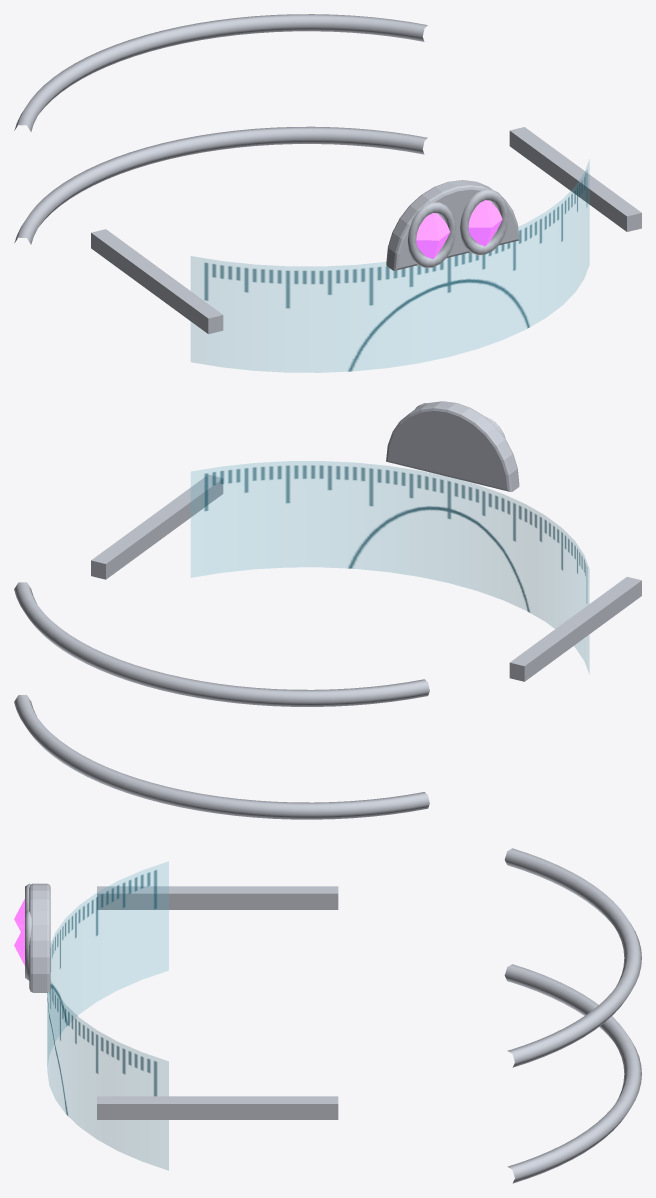
File: gl_eqsu2.glb
The picture shows the model from 3 angles, top to bottom: view 1: azimuth 30°, elevation 25°; view 2: azimuth 150°, elevation 25°; view 3: azimuth 270°, elevation 25°; orthographic projection. The views are drawn at different scales.
Bounding box in the file's own units: 2.23 × 0.9107 × 2.72.
Materials: 3 (1 with a texture image).
